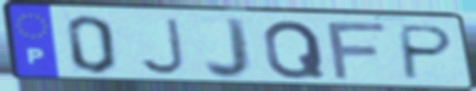0: (64, 13, 122, 77)
F: (324, 21, 391, 83)
J: (202, 15, 254, 82), (135, 17, 187, 77)
P: (398, 22, 457, 82)
Q: (261, 19, 329, 81)
